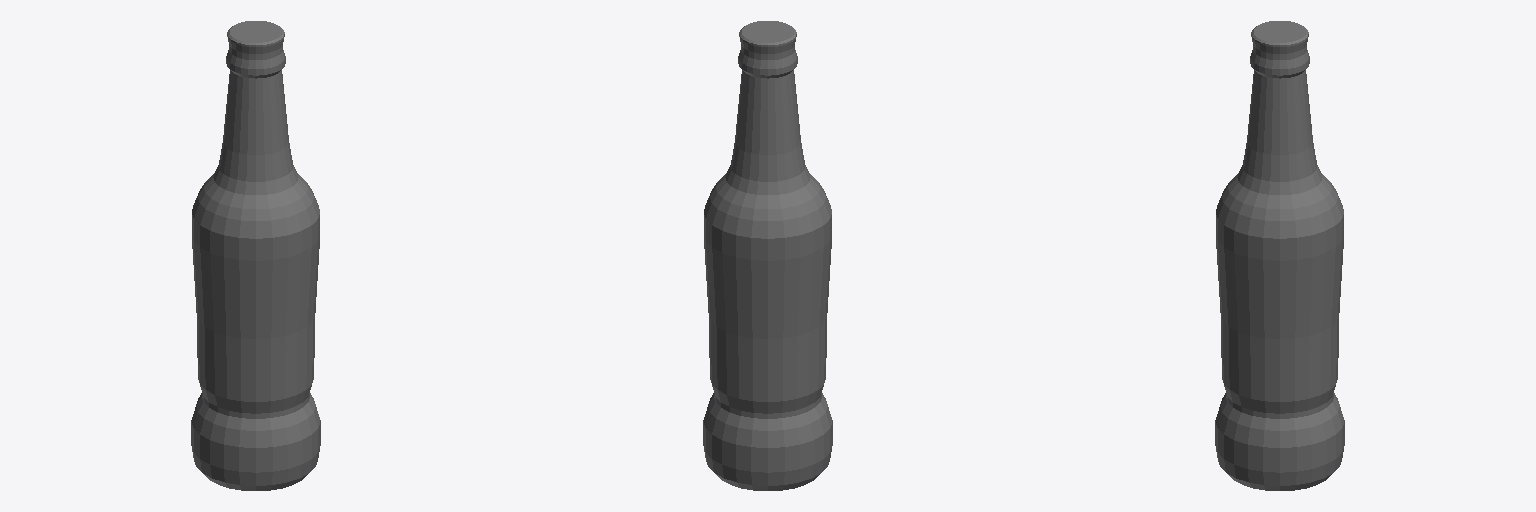
The robot description file, URDF, robot "object":
<?xml version="1.0"?>
<robot name="object">
  <link name="object">
    <visual>
      <origin xyz="0 0 0"/>
      <geometry>
        <mesh
          filename="../../mesh/oakink_virtual/cylinder_bottle_s453.stl" />
      </geometry>
      <material name="mat">
        <color rgba="0.5 0.5 0.5 1"/>
      </material>
    </visual>

    <collision>
      <origin xyz="0 0 0"/>
      <geometry>
        <mesh
          filename="../../mesh/oakink_virtual/cylinder_bottle_s453.stl" />
      </geometry>
    </collision>
  </link>
</robot>

--- Render facts (derived) ---
3 views of the same robot in one strip: view 1: azimuth 30°, elevation 25°; view 2: azimuth 150°, elevation 25°; view 3: azimuth 270°, elevation 25° (orthographic).
Model object with 1 links and 0 joints (none), rooted at object, posed all joints at 0.
Visible links, largest first — view 1: object; view 2: object; view 3: object.
Link boxes in pixels (x1,y1,x2,y2): object: (191, 21, 320, 490); object: (703, 21, 832, 490); object: (1215, 21, 1344, 490).
Bounding box of the posed robot: 0.0758 × 0.0758 × 0.2826 m (x, y, z).
Meshes: 1 distinct files referenced, 1 mesh visuals loaded (1 binary STL).